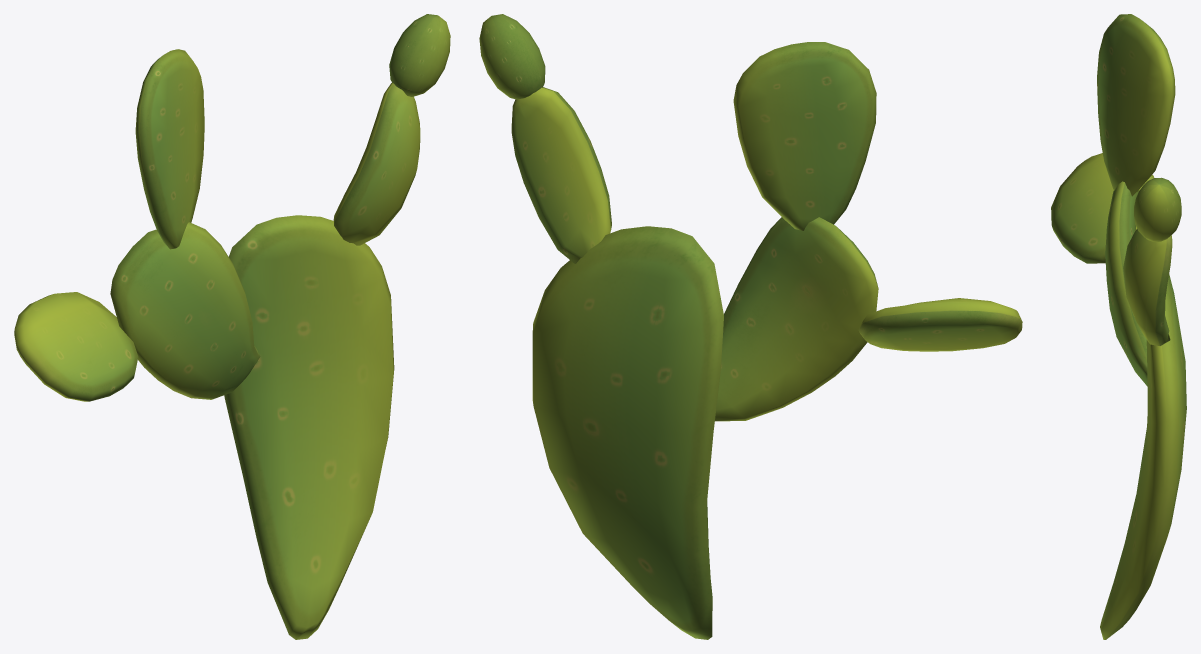
The model's file is bcactus1.fbx.
The picture shows the model from 3 angles, left to right: view 1: azimuth 30°, elevation 25°; view 2: azimuth 150°, elevation 25°; view 3: azimuth 270°, elevation 25°; orthographic projection. The views are drawn at different scales.
Parts seen in each view (by area): view 1: Object016; view 2: Object016; view 3: Object016.
Boxes of the visible parts, bbox=[...] form: Object016: bbox=[14, 14, 450, 639]; Object016: bbox=[479, 14, 1022, 639]; Object016: bbox=[1051, 14, 1186, 639].
Bounding box in the file's own units: 494 × 133 × 611.
